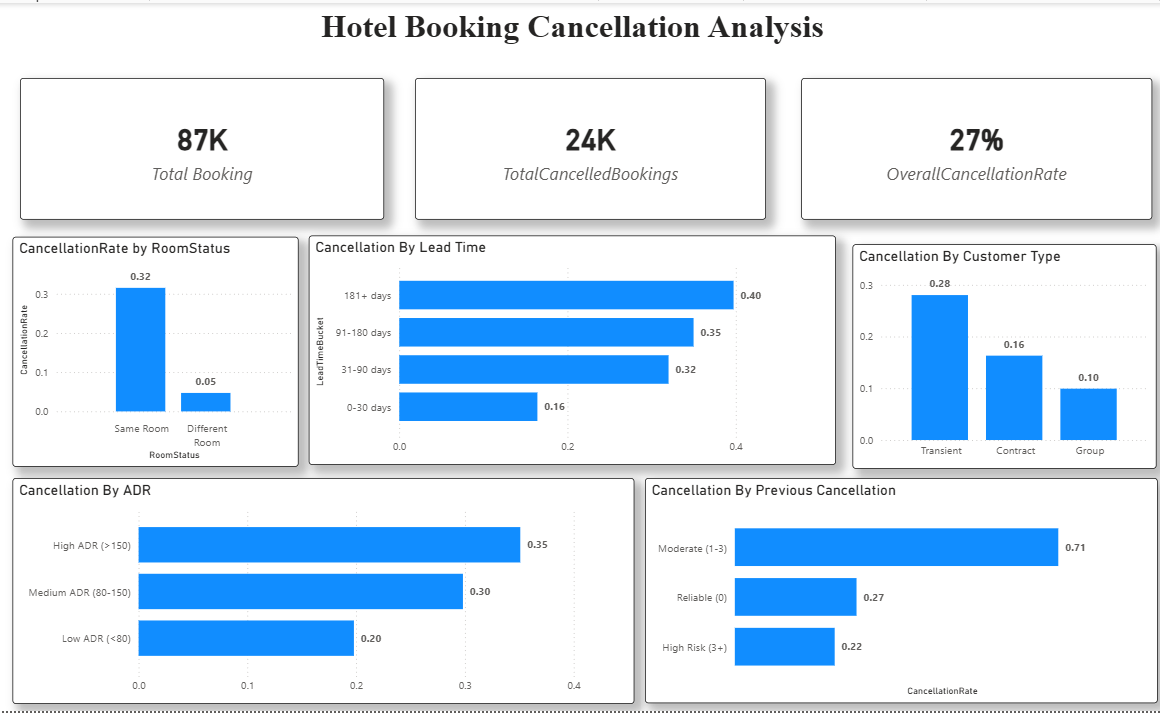

The page's visual inventory and layout, read from the dashboard file:
{"tool":"powerbi","page":{"name":"Page 1","canvas":[1350,820],"ordinal":0},"visuals":[{"type":"card","fields":{"Values":["hotel hotel.Total Booking"]},"box":[23.7,86.3,422,164.3],"z":0},{"type":"card","fields":{"Values":["hotel hotel.OverallCancellationRate"]},"box":[927.6,86.6,406,164],"z":1000},{"type":"card","fields":{"Values":["hotel hotel.Total Cancelled Booking"]},"box":[480.4,86.6,406,164],"z":2000},{"type":"clusteredColumnChart","fields":{"Category":["hotel hotel.RoomStatus"],"Y":["hotel hotel.CancellationRate"]},"box":[13.9,270.2,331.5,266],"z":3000},{"type":"barChart","title":"Cancellation By Lead Time","fields":{"Y":["hotel hotel.CancellationRate"],"Category":["hotel hotel.LeadTimeBucket"]},"box":[357.8,269.8,610.2,265.4],"z":4000},{"type":"columnChart","title":"Cancellation By Customer Type ","fields":{"Y":["hotel hotel.CancellationRate"],"Category":["hotel hotel.customer_type"]},"box":[986.8,279.9,352,259.7],"z":5000},{"type":"barChart","title":"Cancellation By ADR","fields":{"Y":["hotel hotel.CancellationRate"],"Category":["hotel hotel.ADRSegment"]},"box":[13.9,550.1,720,261.8],"z":6000},{"type":"barChart","title":"Cancellation By Previous Cancellation","fields":{"Y":["hotel hotel.CancellationRate"],"Category":["hotel hotel.PreviousCancellationCategory"]},"box":[746.5,550.1,593.3,260.4],"z":7000},{"type":"textbox","box":[357.5,0,629.6,65.1],"z":8000}]}

Visuals, with their boxes in screenshot pixels (x1, y1, x2, y2), scaled from the page's 1350x820 canvas onto the 1160x713 screenshot:
card - hotel hotel.Total Booking: box(20, 75, 383, 218)
card - hotel hotel.OverallCancellationRate: box(797, 75, 1146, 218)
card - hotel hotel.Total Cancelled Booking: box(413, 75, 762, 218)
clusteredColumnChart - hotel hotel.RoomStatus x hotel hotel.CancellationRate: box(12, 235, 297, 466)
"Cancellation By Lead Time" barChart: box(307, 235, 832, 465)
"Cancellation By Customer Type " columnChart: box(848, 243, 1150, 469)
"Cancellation By ADR" barChart: box(12, 478, 631, 706)
"Cancellation By Previous Cancellation" barChart: box(641, 478, 1151, 705)
textbox: box(307, 0, 848, 57)
